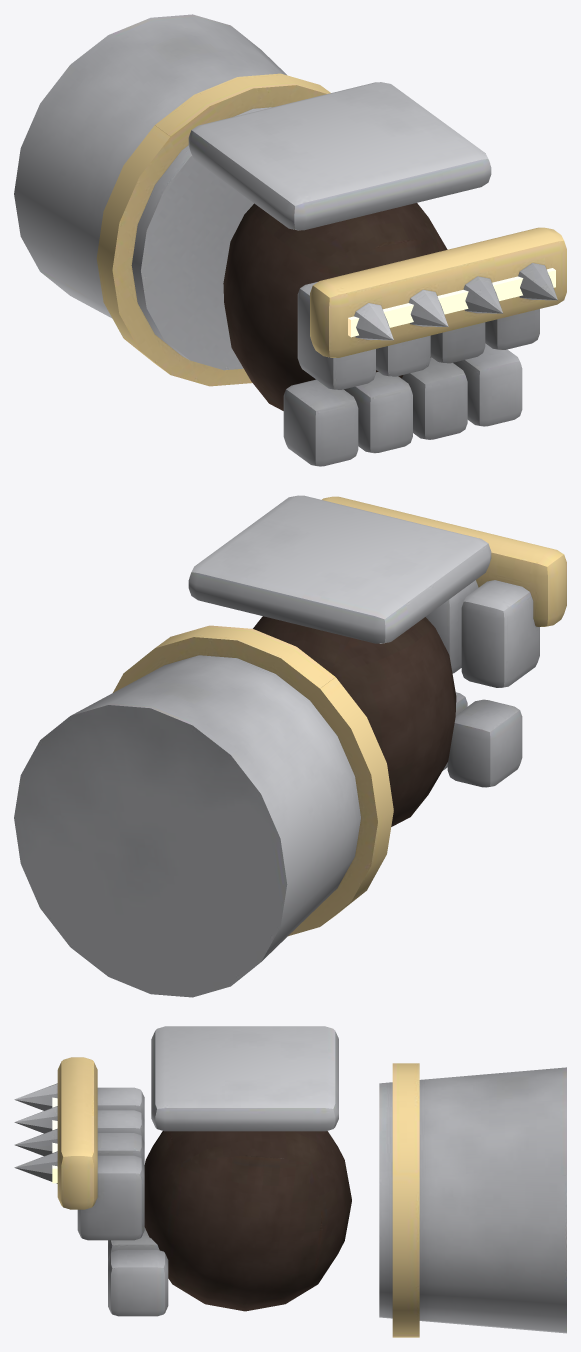
File: wpn_gauntlet.glb
The picture shows the model from 3 angles, top to bottom: view 1: azimuth 30°, elevation 25°; view 2: azimuth 150°, elevation 25°; view 3: azimuth 270°, elevation 25°; orthographic projection. The views are drawn at different scales.
Parts seen in each view (by area): view 1: gauntlet, gauntlet_glow; view 2: gauntlet; view 3: gauntlet.
Boxes of the visible parts, <box> form: gauntlet: <box>14,14,566,466</box>; gauntlet_glow: <box>348,268,555,337</box>; gauntlet: <box>14,495,566,997</box>; gauntlet: <box>14,1026,566,1337</box>.
Size of the model in its own units: 0.206 by 0.2155 by 0.4125.
2 materials, 1 textured.
